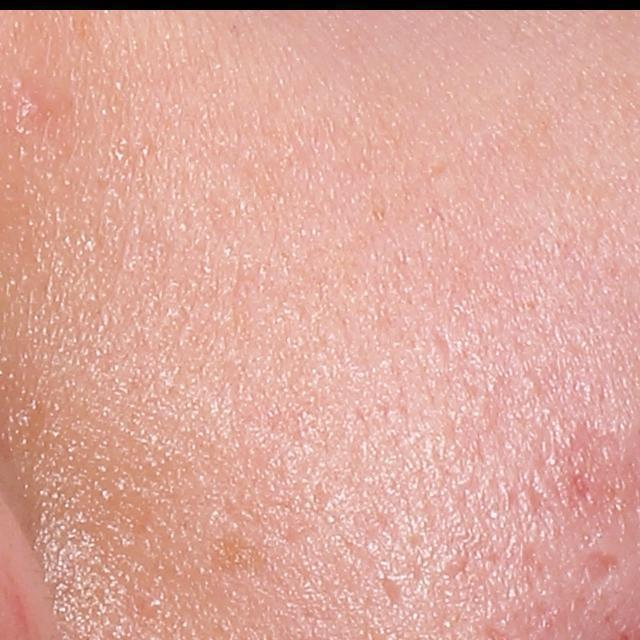atrophic_scar: (578, 554, 621, 594), (377, 566, 410, 613)
